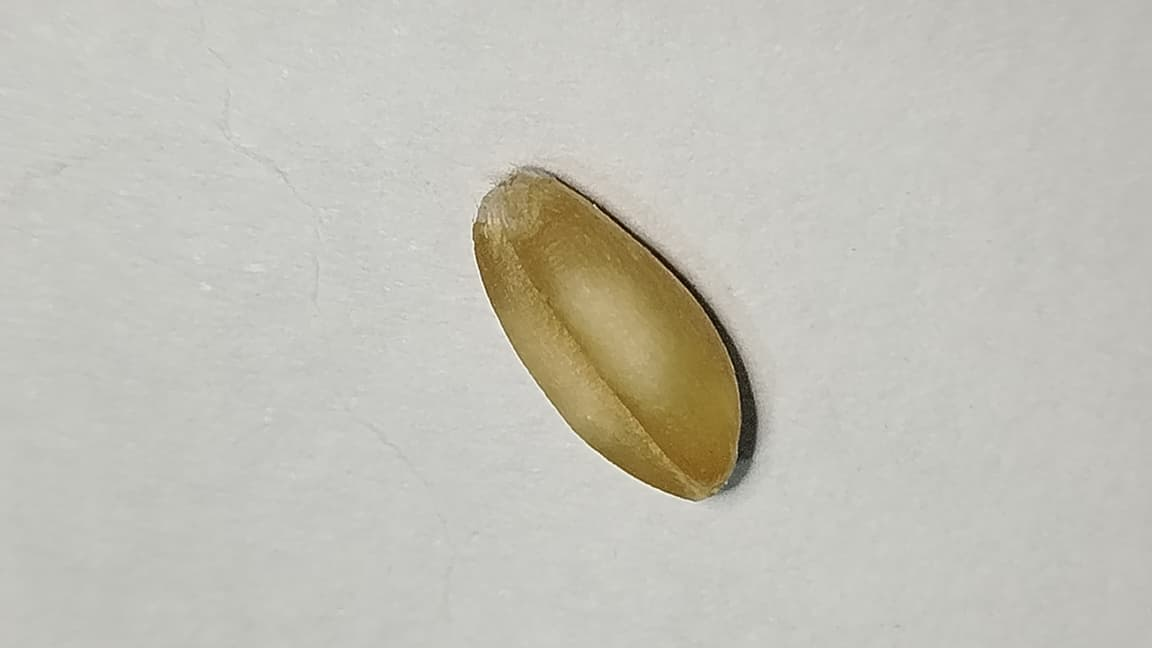healthy: (473, 165, 758, 504)
